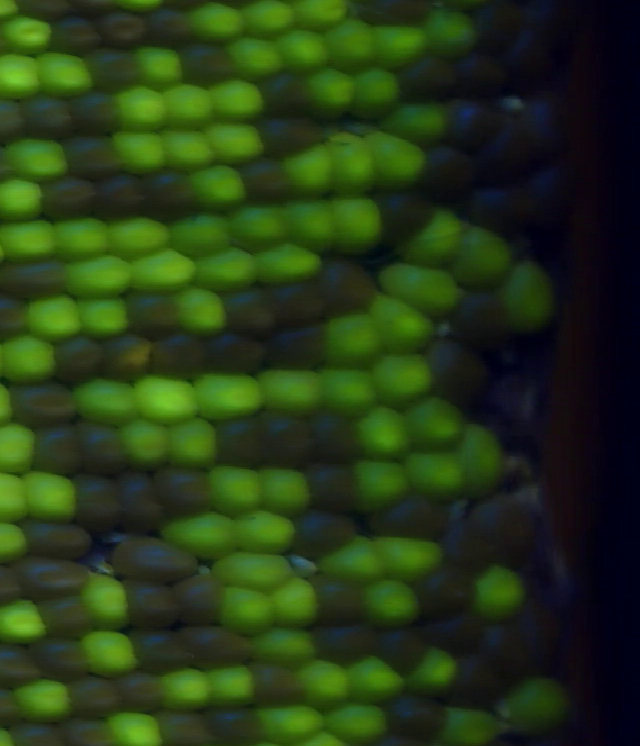fluorescent: (377, 256, 463, 316), (498, 255, 557, 336), (494, 678, 571, 736), (156, 511, 237, 566), (362, 127, 429, 193), (343, 458, 416, 518), (322, 127, 381, 195), (212, 581, 280, 640), (370, 347, 439, 405), (372, 291, 437, 352), (193, 369, 264, 424), (397, 397, 462, 456), (379, 532, 450, 586), (69, 378, 144, 429), (131, 374, 206, 425), (229, 503, 298, 558), (320, 358, 382, 419), (256, 363, 327, 416), (3, 135, 77, 185), (460, 422, 505, 504), (356, 406, 415, 468), (330, 196, 385, 262), (381, 99, 458, 146), (401, 210, 466, 265), (210, 551, 295, 593), (415, 10, 485, 60), (36, 50, 97, 106), (188, 248, 263, 293), (460, 224, 511, 290), (22, 470, 80, 527), (197, 117, 272, 161), (280, 193, 335, 253), (0, 333, 62, 386), (128, 250, 202, 294), (368, 20, 435, 68), (315, 538, 382, 586), (412, 450, 471, 504), (184, 1, 250, 49), (105, 124, 169, 173), (105, 212, 169, 261), (351, 660, 412, 711), (81, 571, 131, 633), (260, 463, 316, 518), (82, 629, 147, 676), (169, 210, 231, 259), (475, 566, 528, 623), (11, 679, 81, 722), (0, 218, 60, 268), (22, 299, 87, 345), (407, 649, 459, 705), (235, 201, 295, 249), (157, 125, 218, 172), (361, 579, 422, 626), (0, 596, 52, 651), (129, 44, 192, 89), (116, 417, 170, 469), (301, 67, 357, 117), (166, 417, 215, 474), (268, 580, 321, 632), (206, 467, 264, 514), (248, 628, 321, 665), (189, 165, 249, 210), (280, 146, 336, 194), (326, 703, 395, 741), (55, 215, 108, 264), (325, 21, 384, 65), (62, 260, 132, 297), (113, 84, 170, 129), (159, 83, 216, 128), (208, 78, 267, 121), (346, 71, 401, 117), (81, 289, 132, 338), (257, 709, 328, 744), (178, 293, 232, 339), (278, 32, 334, 76), (159, 665, 214, 709), (227, 36, 285, 76), (254, 242, 315, 280), (206, 666, 258, 710), (439, 705, 494, 746), (299, 661, 345, 710), (0, 16, 53, 57), (0, 176, 44, 224), (0, 423, 40, 473), (0, 56, 45, 100), (245, 1, 298, 37), (107, 713, 159, 746), (293, 1, 354, 29), (324, 310, 349, 360)
nonfluorescent: (414, 337, 499, 414), (456, 495, 538, 573), (463, 182, 547, 245), (102, 534, 202, 585), (369, 494, 456, 547), (114, 574, 192, 633), (238, 655, 314, 713), (10, 377, 84, 435), (373, 184, 440, 246), (310, 250, 376, 312), (121, 628, 205, 676), (14, 87, 82, 146), (120, 286, 191, 342), (210, 414, 274, 476), (265, 314, 332, 372), (7, 553, 92, 598), (287, 501, 352, 559), (194, 329, 272, 377), (299, 401, 359, 463), (71, 469, 124, 539), (450, 292, 518, 346), (182, 622, 254, 673), (262, 405, 319, 469), (101, 332, 163, 388), (108, 471, 163, 534), (152, 462, 213, 518), (0, 258, 69, 306), (516, 593, 559, 670), (298, 456, 359, 510), (469, 132, 536, 181), (404, 571, 478, 615), (172, 566, 222, 631), (77, 418, 132, 477), (393, 54, 458, 103), (274, 283, 339, 332), (18, 516, 92, 559), (519, 95, 571, 156), (441, 520, 490, 584), (305, 576, 366, 627), (61, 126, 123, 176), (475, 620, 531, 675), (381, 693, 451, 737), (29, 424, 81, 482), (414, 146, 478, 193), (372, 624, 434, 672), (503, 26, 552, 86), (446, 653, 501, 706), (36, 588, 97, 635), (29, 635, 90, 682), (470, 1, 523, 55), (442, 100, 502, 147), (262, 73, 319, 121), (146, 325, 201, 374), (219, 289, 283, 331), (256, 118, 327, 155), (86, 48, 146, 91), (205, 705, 266, 746), (448, 52, 507, 94), (65, 676, 120, 720), (46, 336, 105, 377), (106, 176, 156, 224), (149, 168, 195, 220), (354, 1, 436, 29), (158, 707, 216, 746), (243, 158, 290, 205), (173, 45, 232, 82), (309, 623, 373, 656), (0, 284, 36, 342), (51, 18, 103, 58), (73, 91, 124, 131), (47, 180, 102, 217), (96, 11, 152, 47), (113, 667, 159, 710), (146, 8, 198, 45), (4, 719, 69, 746), (432, 617, 488, 645), (60, 719, 114, 746), (0, 644, 37, 680), (6, 1, 70, 19)
